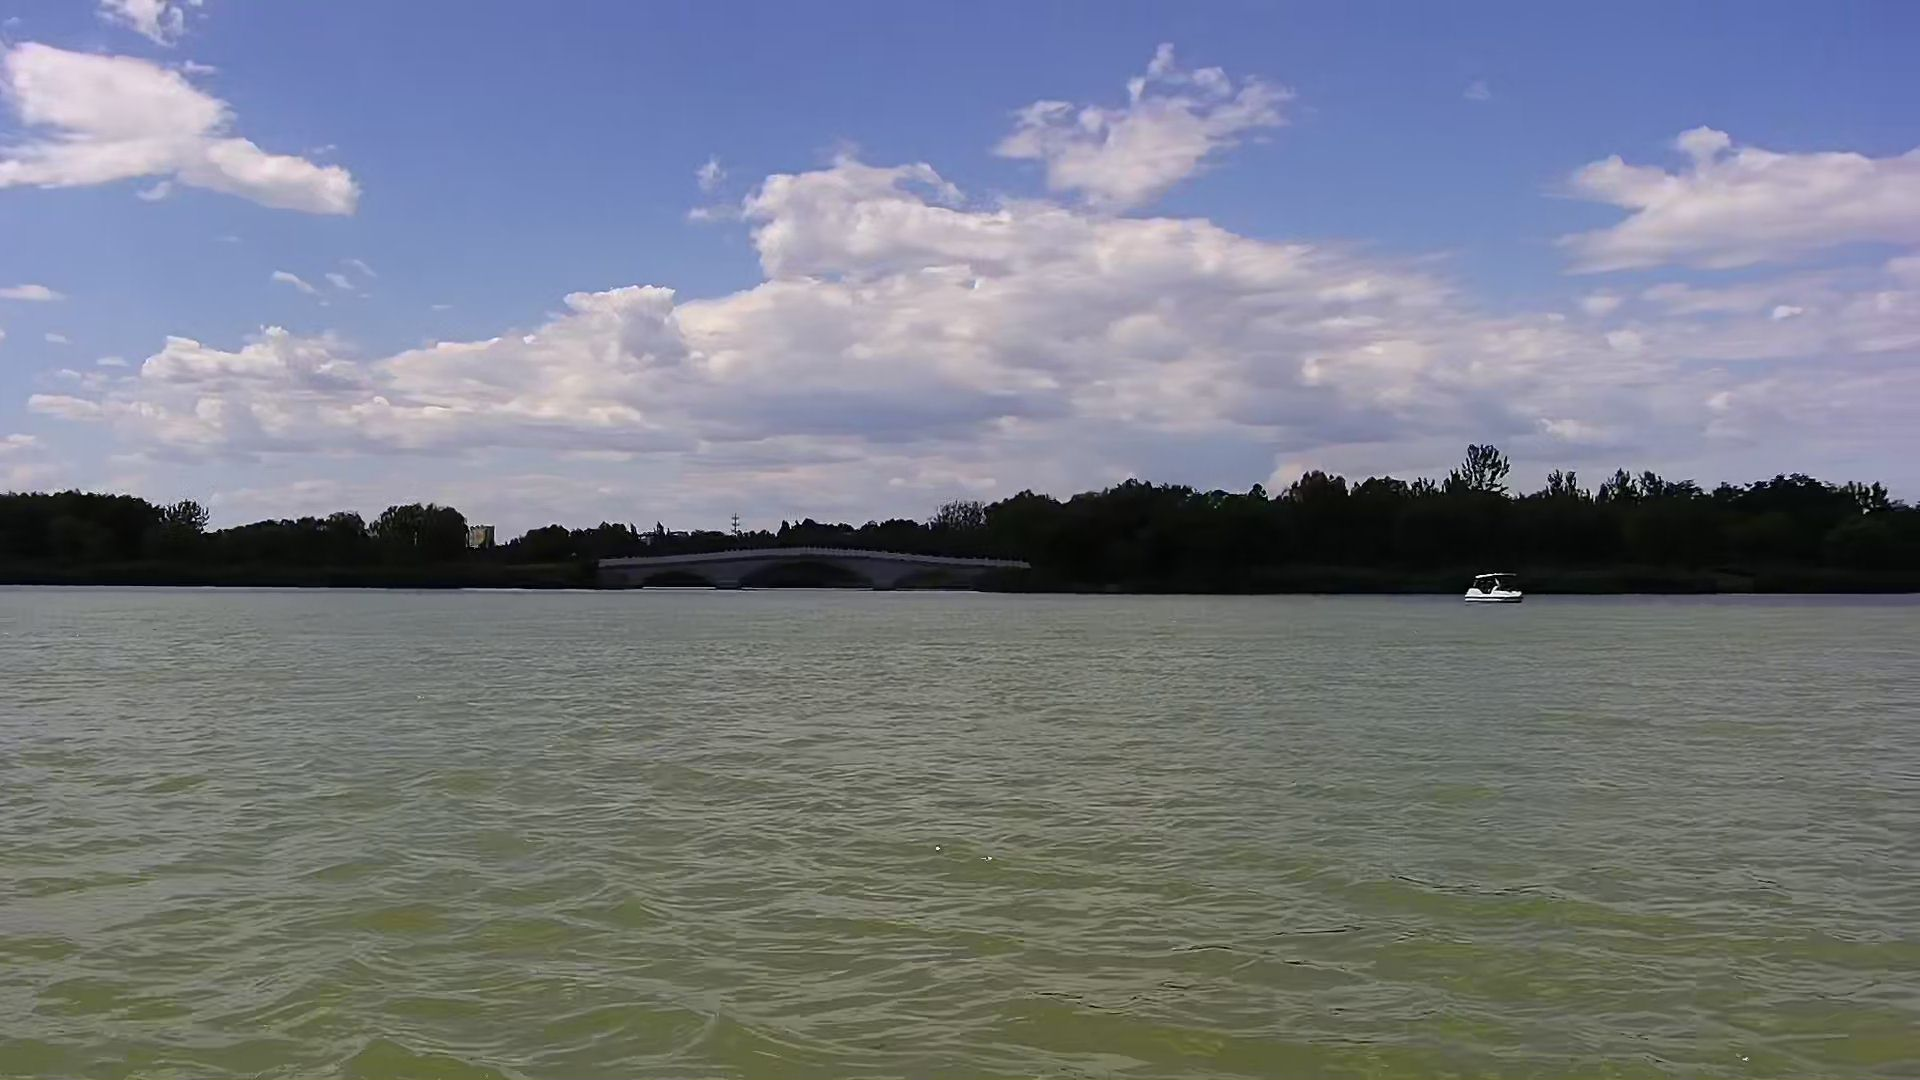boat: (1462, 564, 1526, 612)
bridge: (600, 543, 1029, 599)
